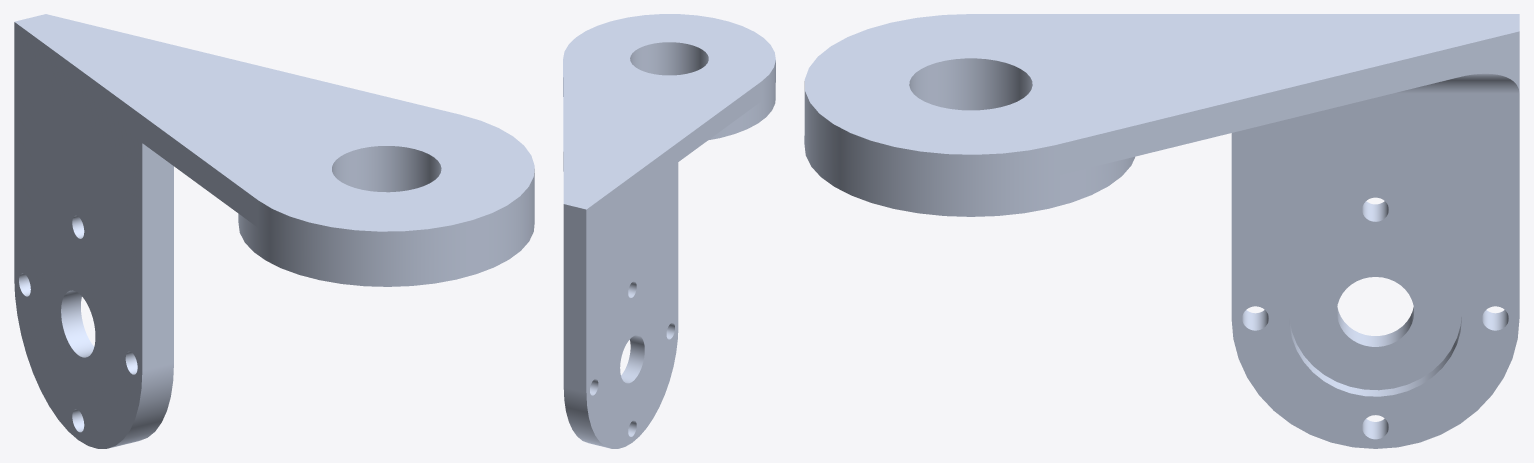
3 views of the same model, side by side, from view 1: azimuth 30°, elevation 25°; view 2: azimuth 150°, elevation 25°; view 3: azimuth 270°, elevation 25° (orthographic). The views are drawn at different scales.
Visible parts, largest first — view 1: A_Joint_6_Hub; view 2: A_Joint_6_Hub; view 3: A_Joint_6_Hub.
Part boxes in pixels (<box>): A_Joint_6_Hub: <box>14,14,534,448</box>; A_Joint_6_Hub: <box>563,14,775,448</box>; A_Joint_6_Hub: <box>804,14,1519,448</box>.
Bounding box in the file's own units: 48.6 × 104 × 67.2.
